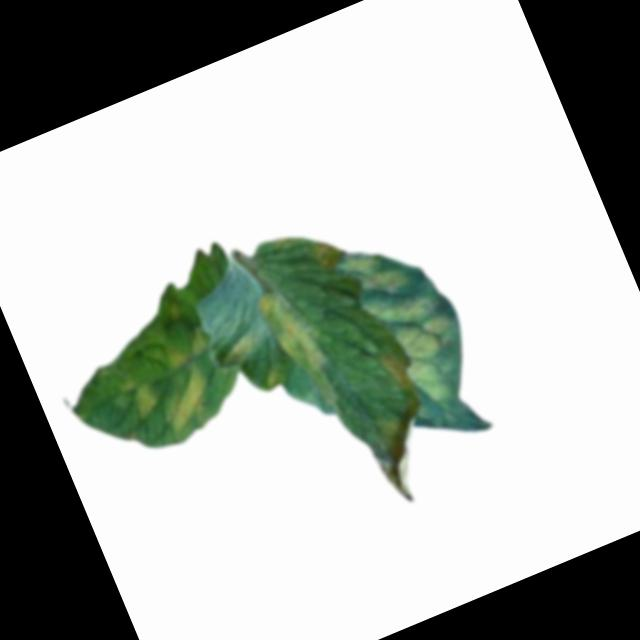Leaf_Mold: (335, 229, 477, 421), (251, 282, 330, 387), (150, 362, 221, 436), (375, 348, 423, 422), (114, 371, 163, 426), (158, 327, 211, 372), (219, 333, 256, 370)
